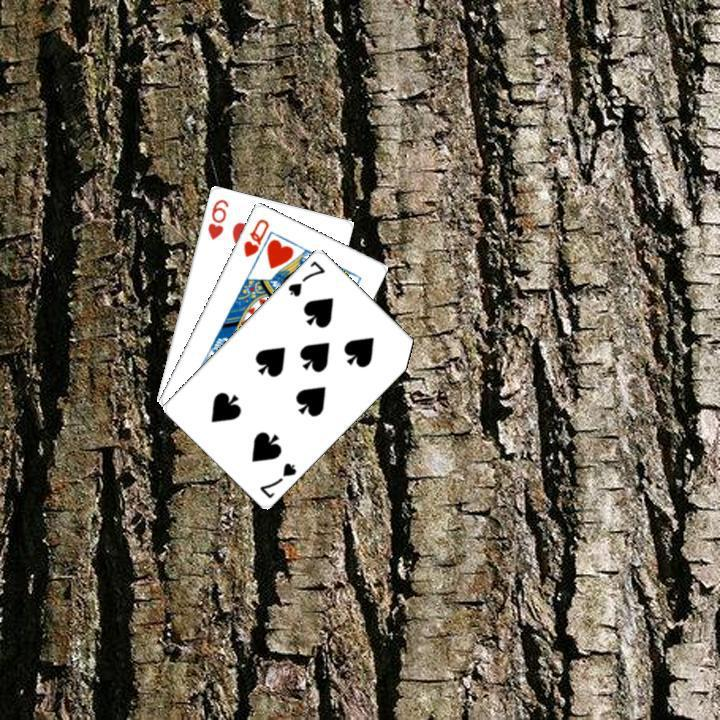6: (203, 194, 230, 241)
7: (283, 256, 327, 299), (255, 458, 299, 500)
Q: (239, 214, 271, 259)
